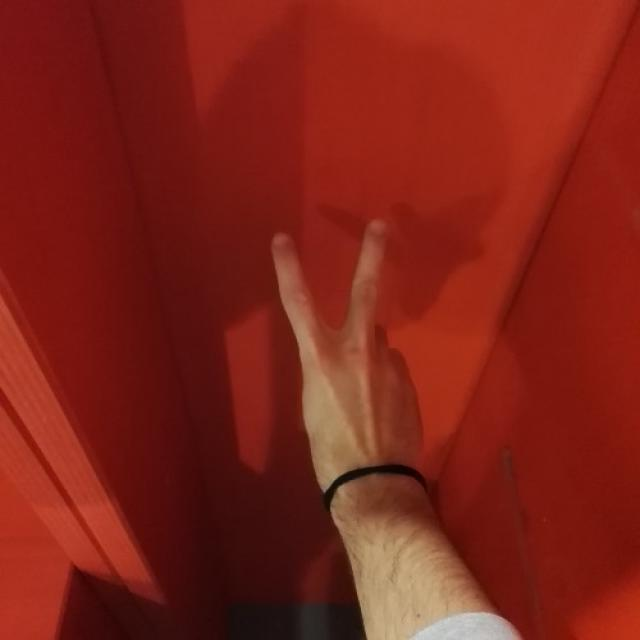scissors: (272, 215, 424, 468)
